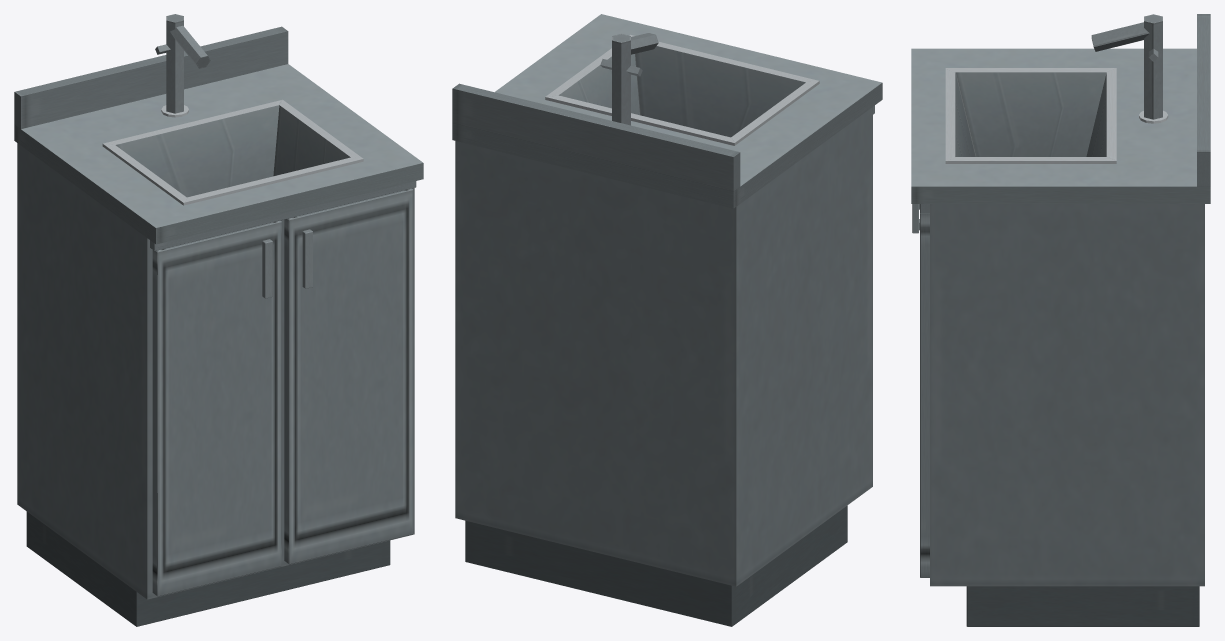
The model's file is sink.glb.
3 renders of one model, left to right at view 1: azimuth 30°, elevation 25°; view 2: azimuth 150°, elevation 25°; view 3: azimuth 270°, elevation 25°, orthographic. The views are drawn at different scales.
Visible parts, largest first — view 1: core_sink; view 2: core_sink; view 3: core_sink.
Part boxes in pixels (x1,y1,x2,y2): core_sink: (14, 14, 423, 626); core_sink: (452, 14, 882, 626); core_sink: (911, 14, 1210, 626).
Bounding box in the file's own units: 0.6 × 1.1 × 0.55.
Materials: 1 (1 with a texture image).
